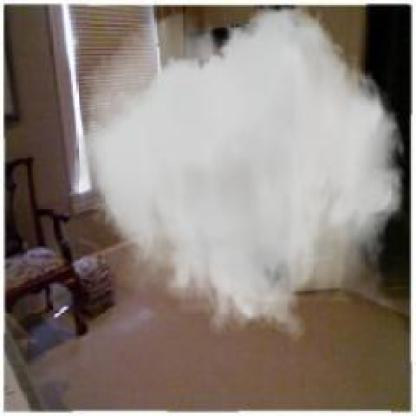Smoke: (75, 5, 409, 343)
